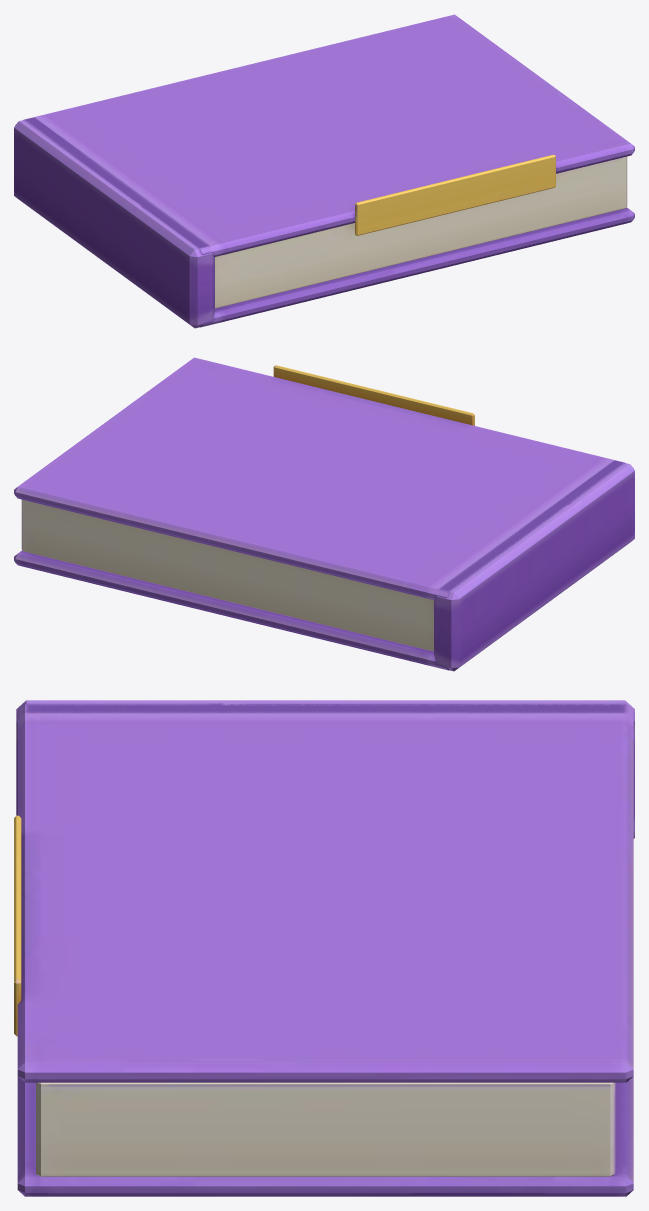
Rendered from toy_book_purple.glb.
The picture shows the model from 3 angles, top to bottom: view 1: azimuth 30°, elevation 25°; view 2: azimuth 150°, elevation 25°; view 3: azimuth 270°, elevation 25°; orthographic projection. The views are drawn at different scales.
Parts seen in each view (by area): view 1: prop; view 2: prop; view 3: prop.
Part boxes in pixels (box(x1,y1,x2,y2)): prop: box(14, 14, 634, 328); prop: box(14, 357, 634, 671); prop: box(14, 700, 634, 1196).
Size of the model in its own units: 7.1 by 1.35 by 5.04.
1 material, 1 textured.
